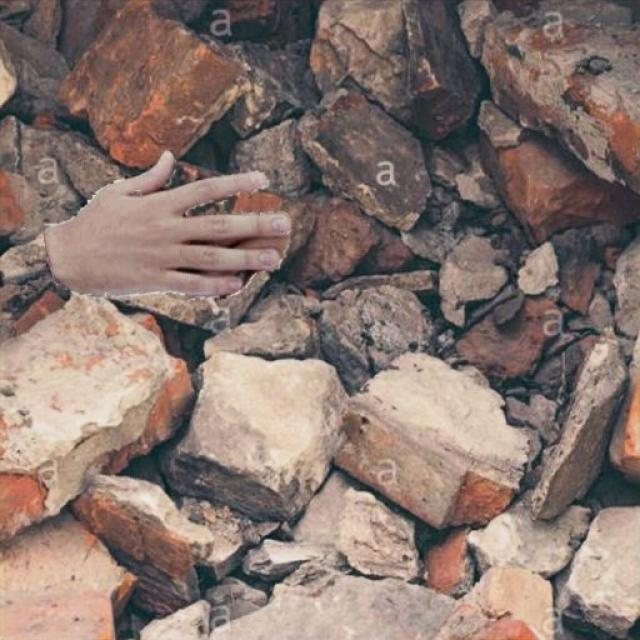Person in Rubble: (44, 150, 290, 300)
